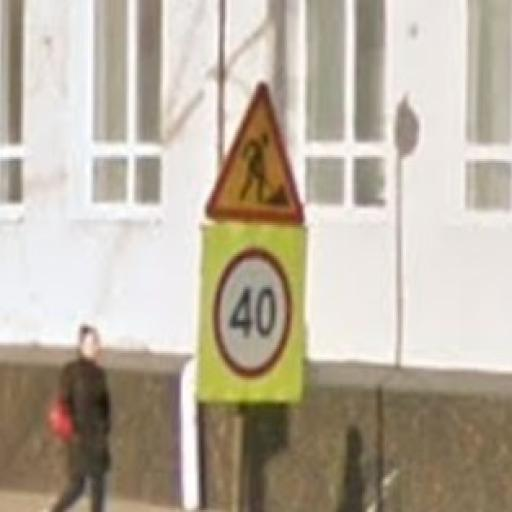traffic_sign: (205, 80, 306, 226), (213, 248, 294, 378)
